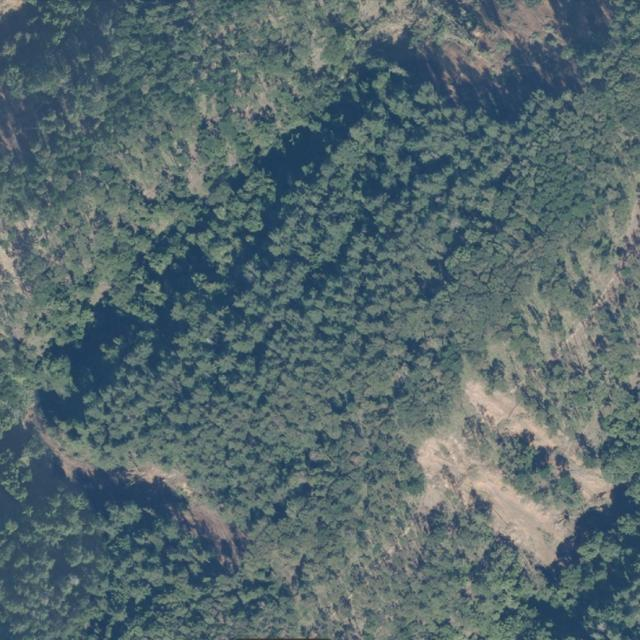landslide: (420, 382, 614, 566)
